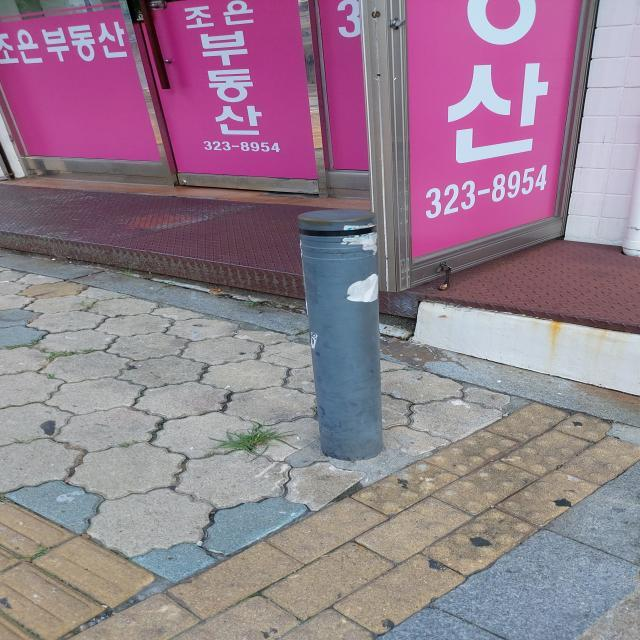pole: (297, 209, 383, 461)
